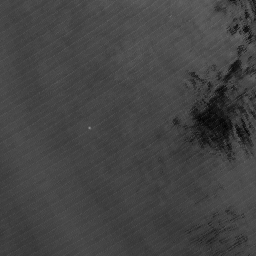Target: (86, 124, 93, 131)
